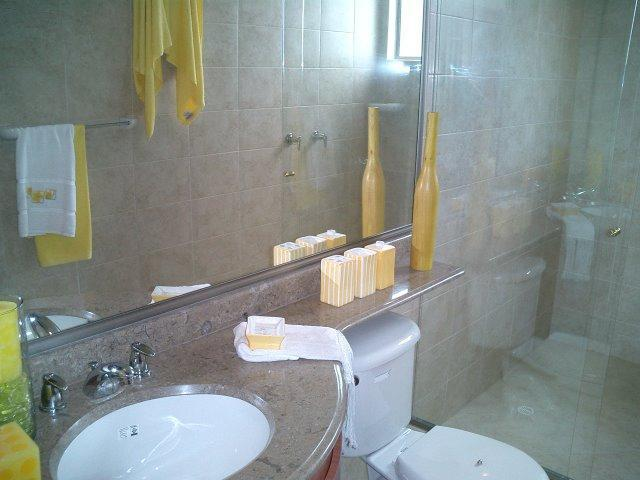Ducha: (428, 6, 636, 473)
Lavamanos: (28, 337, 279, 479)
Sanitario: (332, 314, 551, 477)
